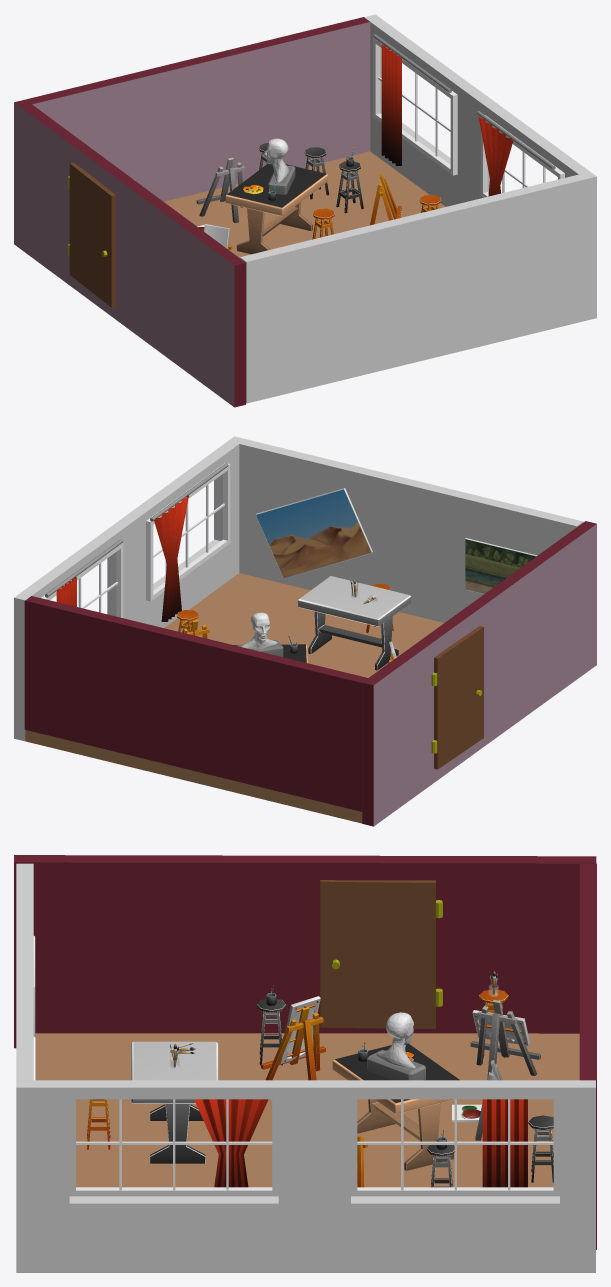
The model's file is art.glb.
The picture shows the model from 3 angles, top to bottom: view 1: azimuth 30°, elevation 25°; view 2: azimuth 150°, elevation 25°; view 3: azimuth 270°, elevation 25°; orthographic projection. The views are drawn at different scales.
Visible parts, largest first — view 1: Дверь.001; view 2: Дверь.001; view 3: Дверь.001.
Boxes of the visible parts, x1=… form: Дверь.001: x1=14, y1=14, x2=596, y2=407; Дверь.001: x1=14, y1=436, x2=596, y2=826; Дверь.001: x1=14, y1=855, x2=596, y2=1272.
Bounding box in the file's own units: 9.7 × 3.55 × 10.08.
8 materials, 3 textured.
